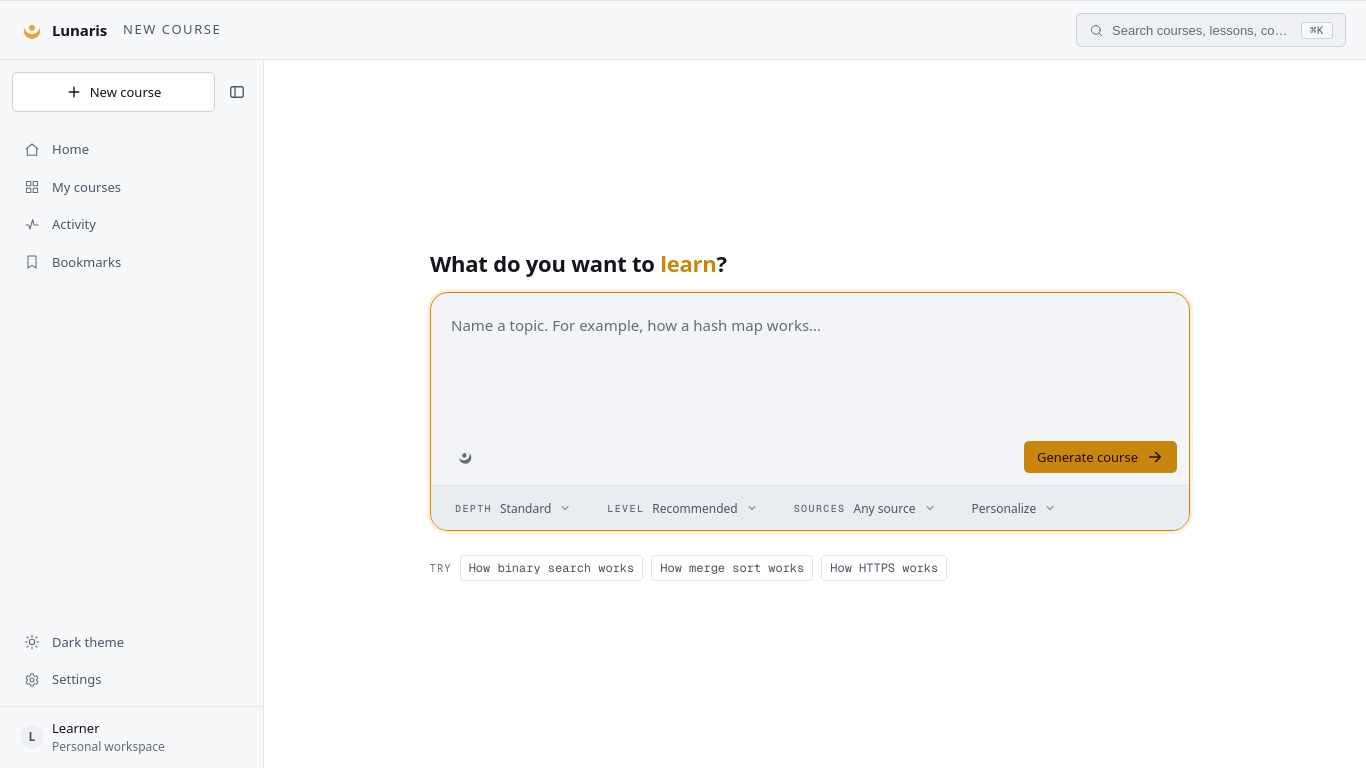
Composer — the Studio | Live fork › round-trips a topic with punctuation through the URL without mangling it
Click the button named "live mode".
click(465, 457)  # box [443,441,487,473]
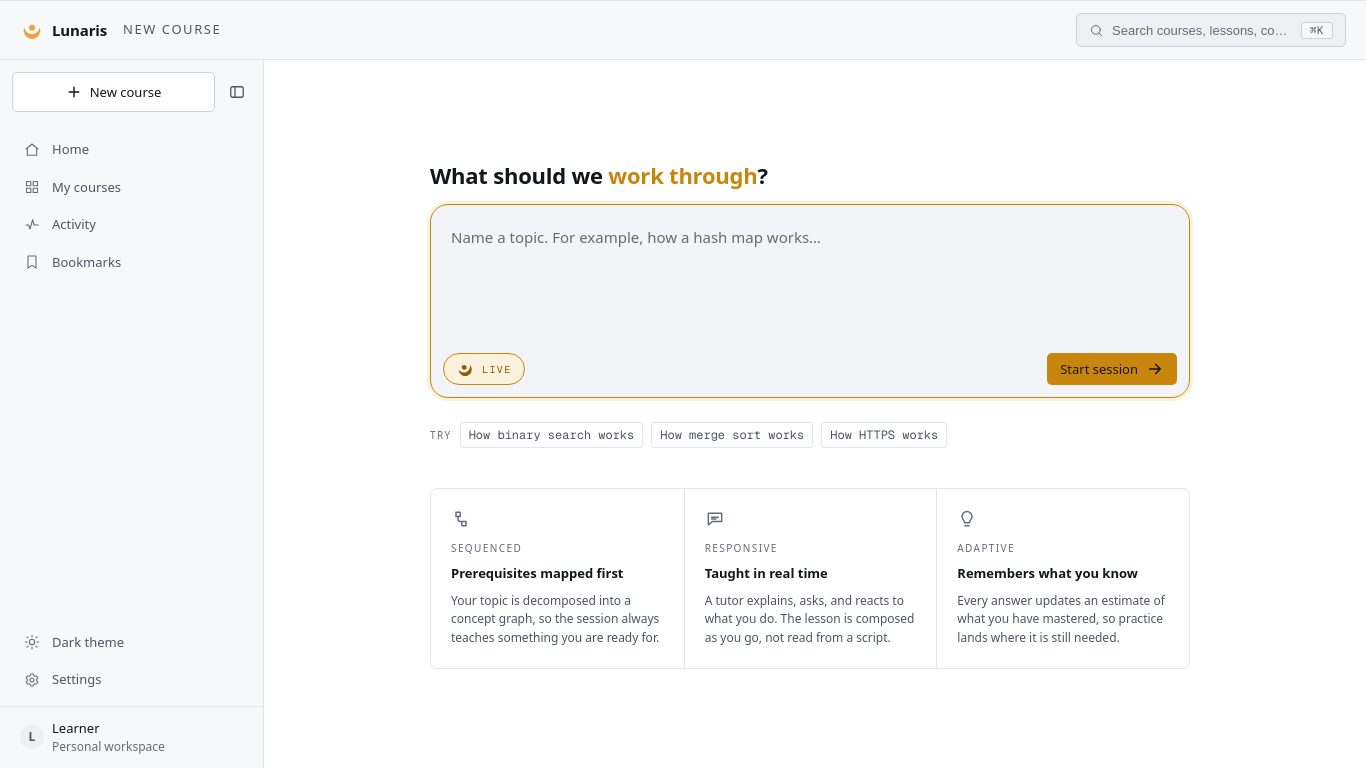
Type "What's a B-tree? (and why)" into the text box labelled "Name a topic. For example, how a hash map works…".
click(810, 279); type("What's a B-tree? (and why)")  # box [431,205,1189,353]
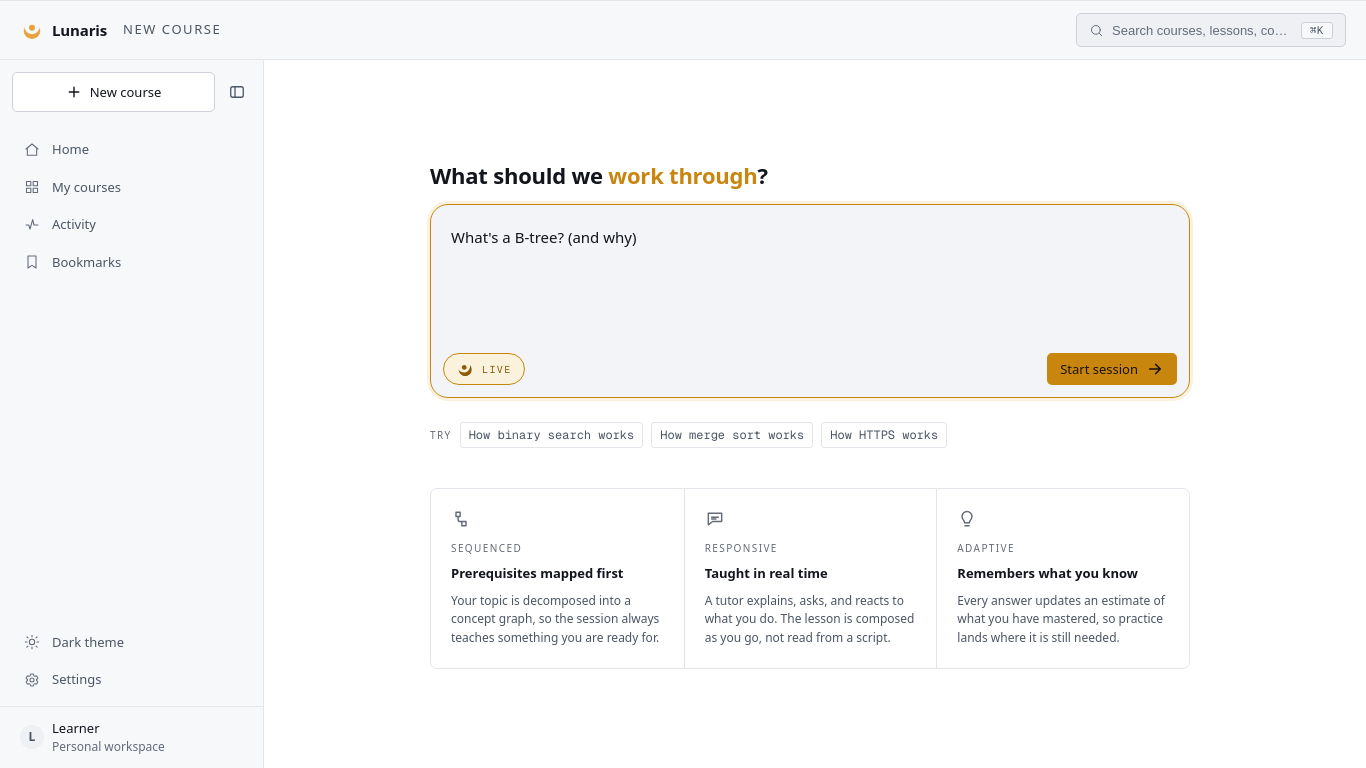
Click the button "Start session".
click(1112, 369)  # box [1047,353,1177,385]
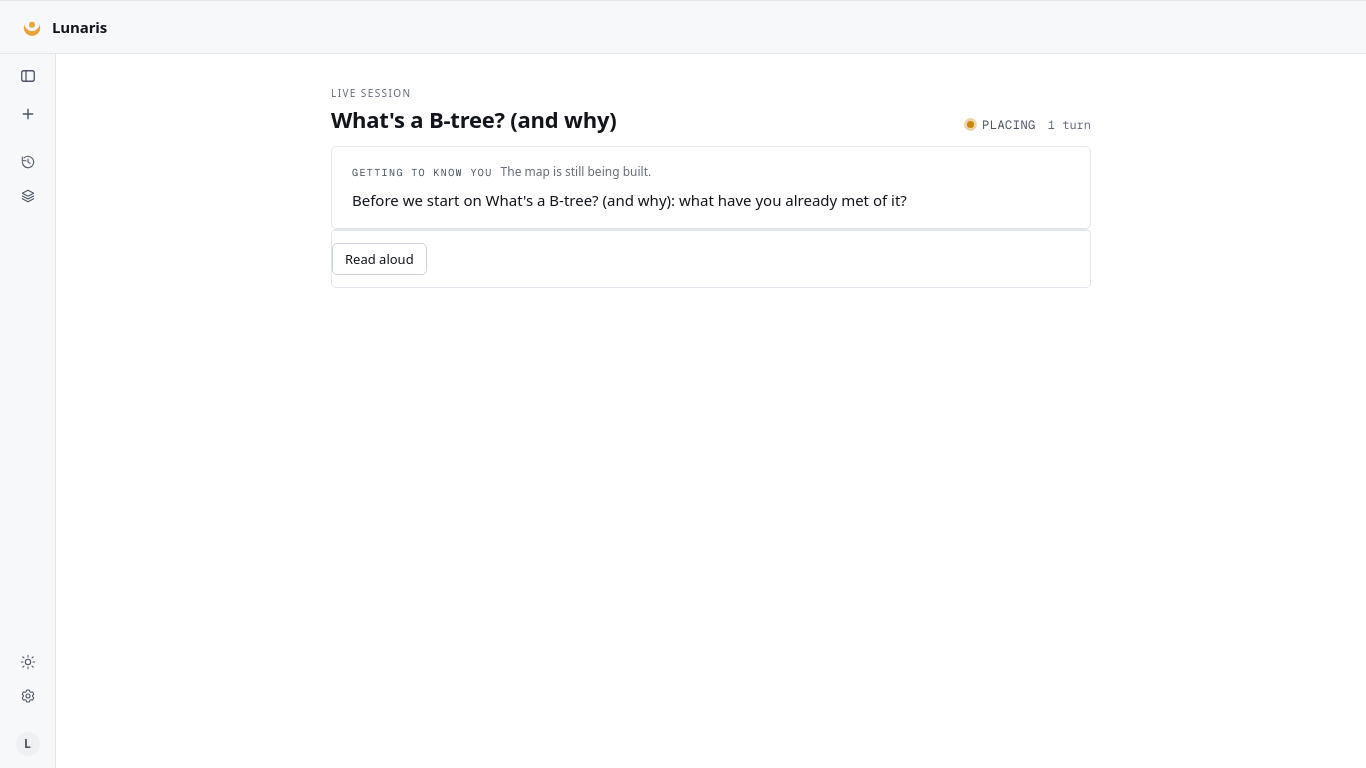
expect the heading "What's a B-tree? (and why)" is shown: met, box [331,105,616,134]
expect the text "what have you already met of it" is shown: met, box [352,190,907,210]
